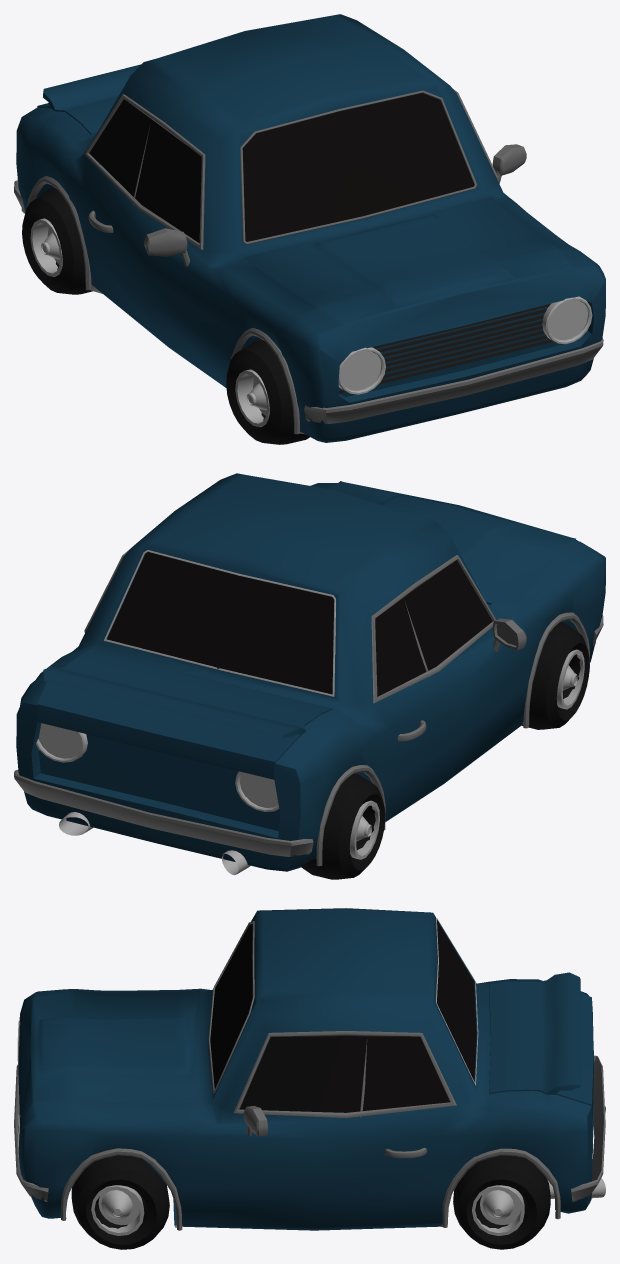
The model's file is Car1.FBX.
The picture shows the model from 3 angles, top to bottom: view 1: azimuth 30°, elevation 25°; view 2: azimuth 150°, elevation 25°; view 3: azimuth 270°, elevation 25°; orthographic projection. The views are drawn at different scales.
Parts seen in each view (by area): view 1: CarModel; view 2: CarModel; view 3: CarModel.
Part boxes in pixels (x1,y1,x2,y2): CarModel: [14, 14, 605, 444]; CarModel: [14, 473, 605, 879]; CarModel: [14, 908, 605, 1249].
Bounding box in the file's own units: 27.1 × 17.66 × 39.56.
